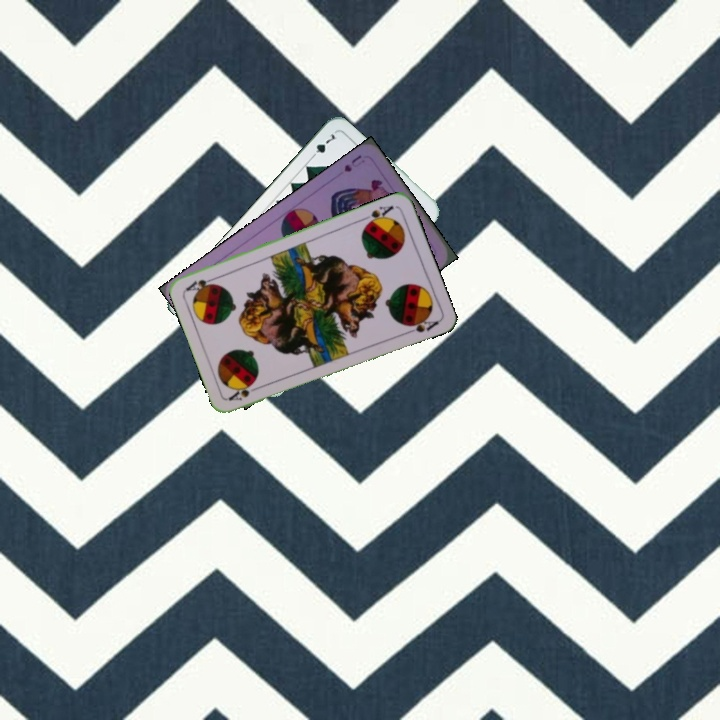G7: (306, 129, 339, 162)
SA: (358, 201, 396, 228), (225, 379, 264, 404)
SU: (340, 151, 368, 175)
